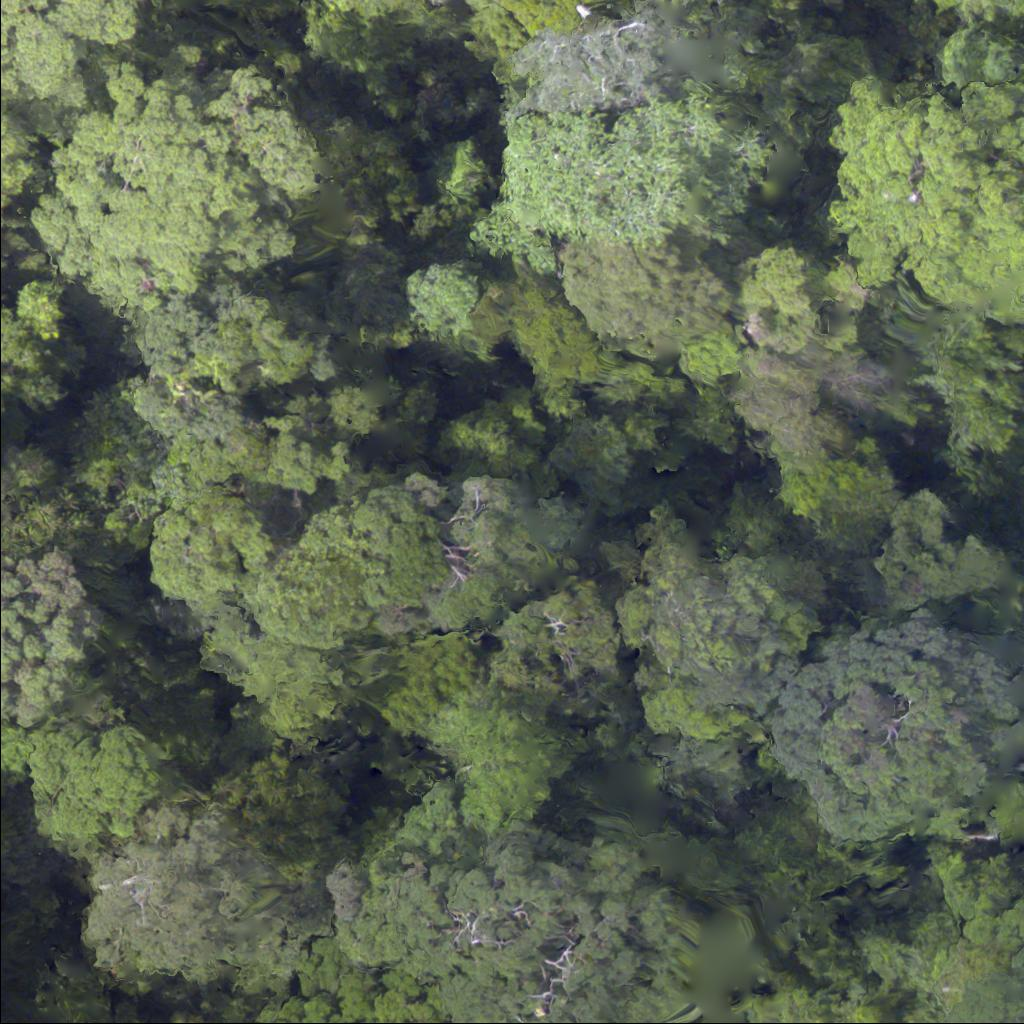crown: (35, 43, 362, 362), (0, 0, 183, 282), (0, 550, 121, 744), (423, 0, 452, 7)
